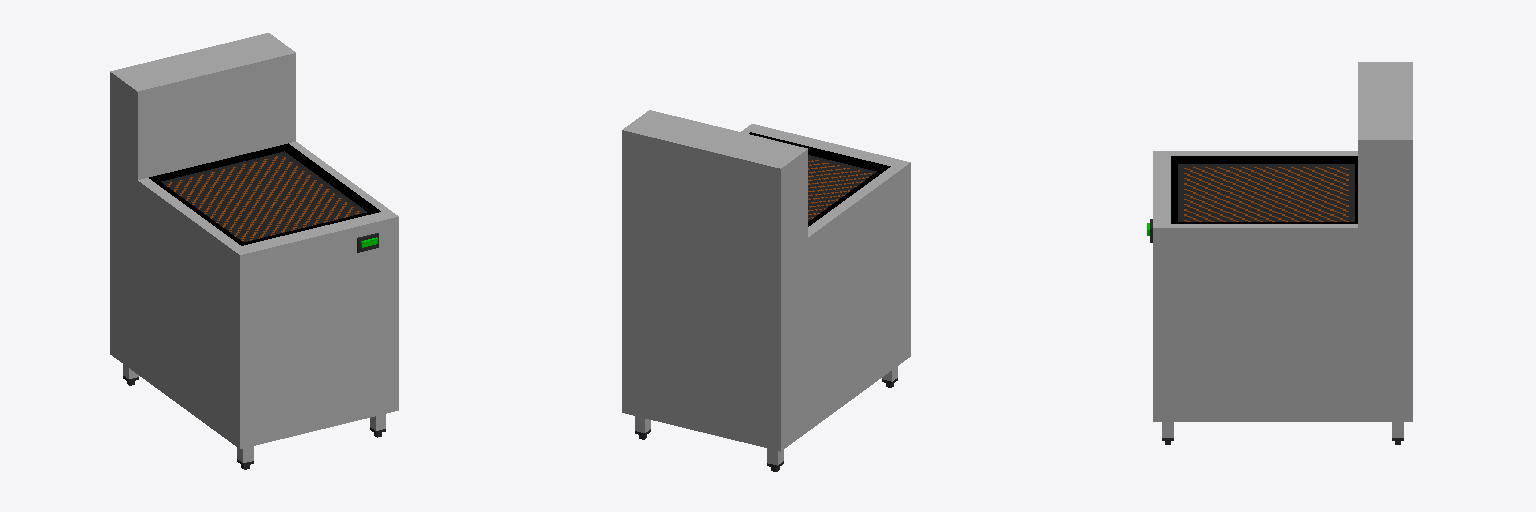
3 renders of one model, left to right at view 1: azimuth 30°, elevation 25°; view 2: azimuth 150°, elevation 25°; view 3: azimuth 270°, elevation 25°, orthographic.
Visible parts, largest first — view 1: object 1; view 2: object 1; view 3: object 1.
Part boxes in pixels (x1,y1,x2,y2): object 1: (110, 33, 398, 469); object 1: (622, 110, 910, 471); object 1: (1147, 62, 1412, 444).
Size of the model in its own units: 6 by 11.2 by 8.7.
1 materials, 1 textured.